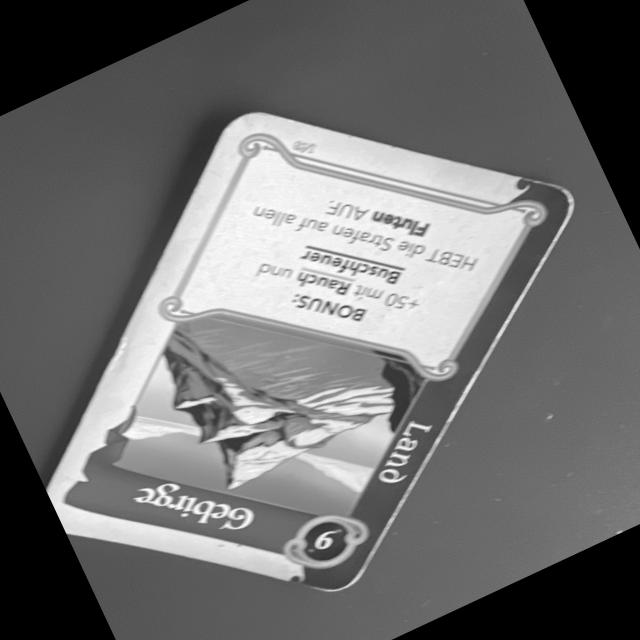Mountain: (47, 114, 583, 587)
